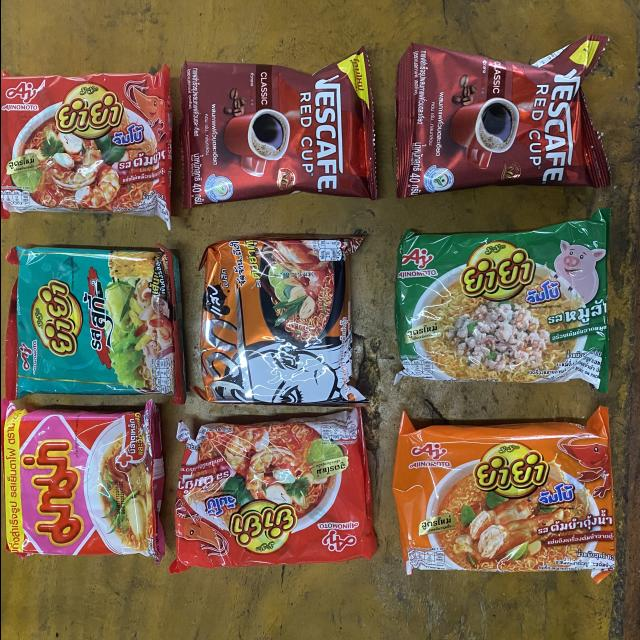plastik: (395, 209, 609, 391), (392, 407, 614, 582), (395, 34, 609, 197), (170, 409, 375, 573), (180, 47, 375, 207), (193, 236, 365, 405), (4, 245, 184, 403), (0, 64, 171, 227), (0, 400, 163, 562)
